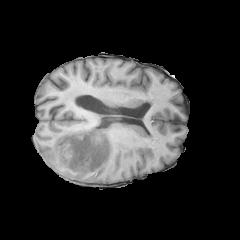glioma: (43, 124, 127, 182)
